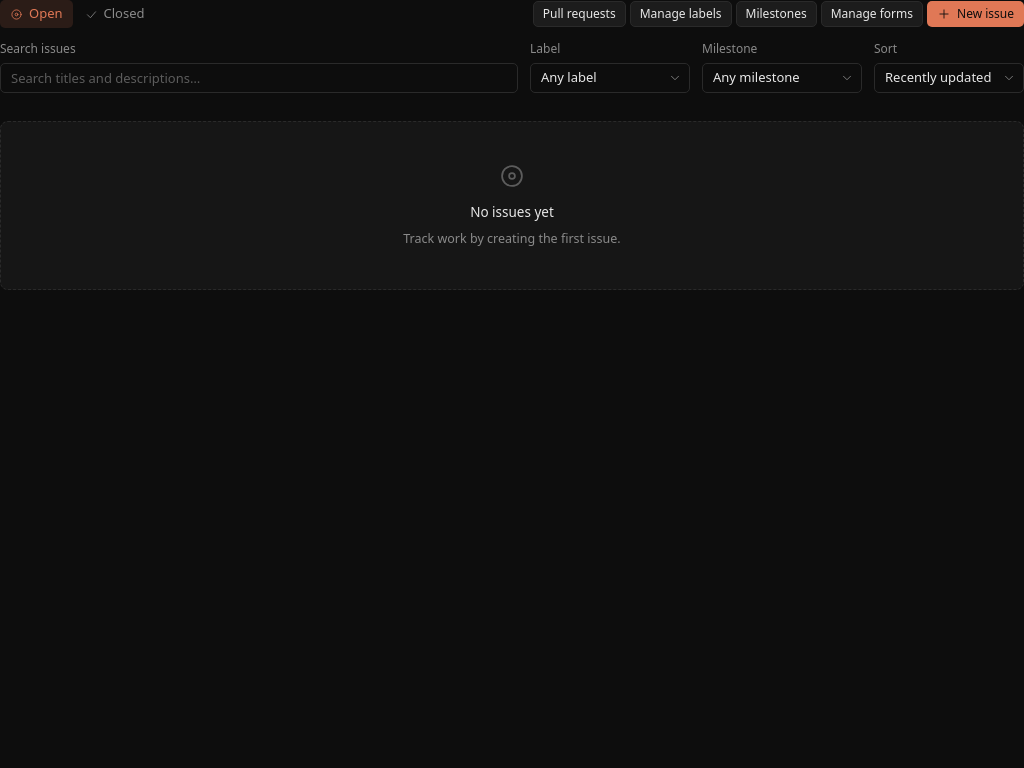
form-driven issue creation › blocks submission CLIENT-SIDE while required fields are empty
This screenshot has width=1024, height=768.
Click the button "New issue" at (976, 14), box [927,1,1023,27]
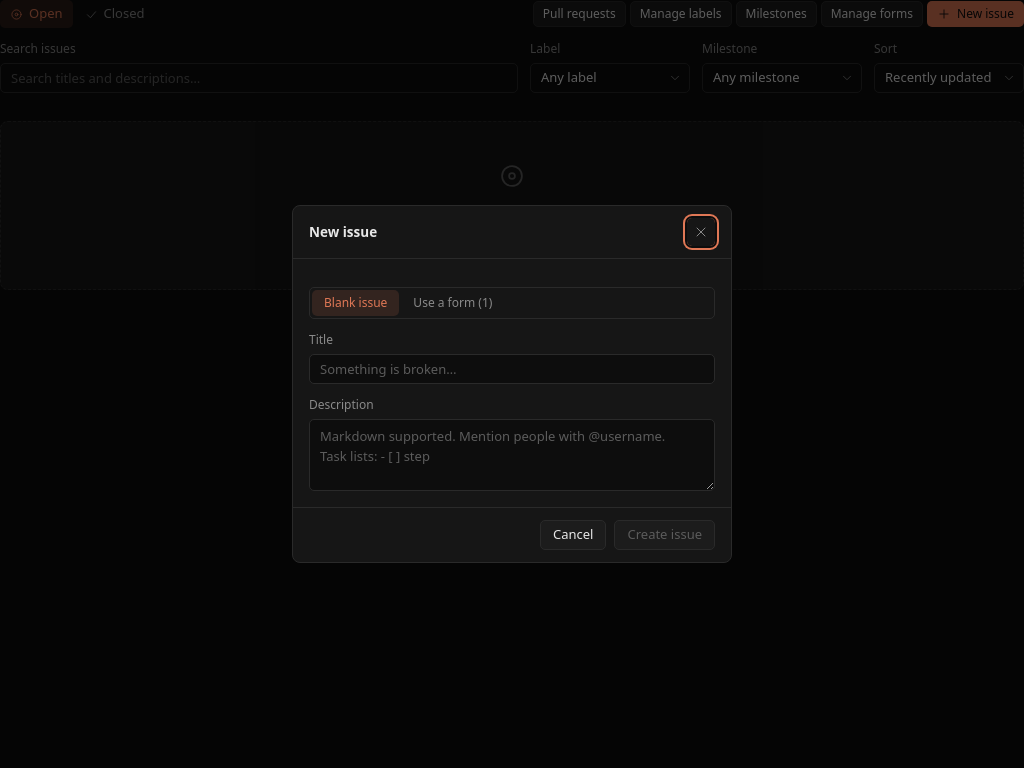
Click the radio button labelled "Use a form (1)" at (453, 303), box [401,290,504,316]
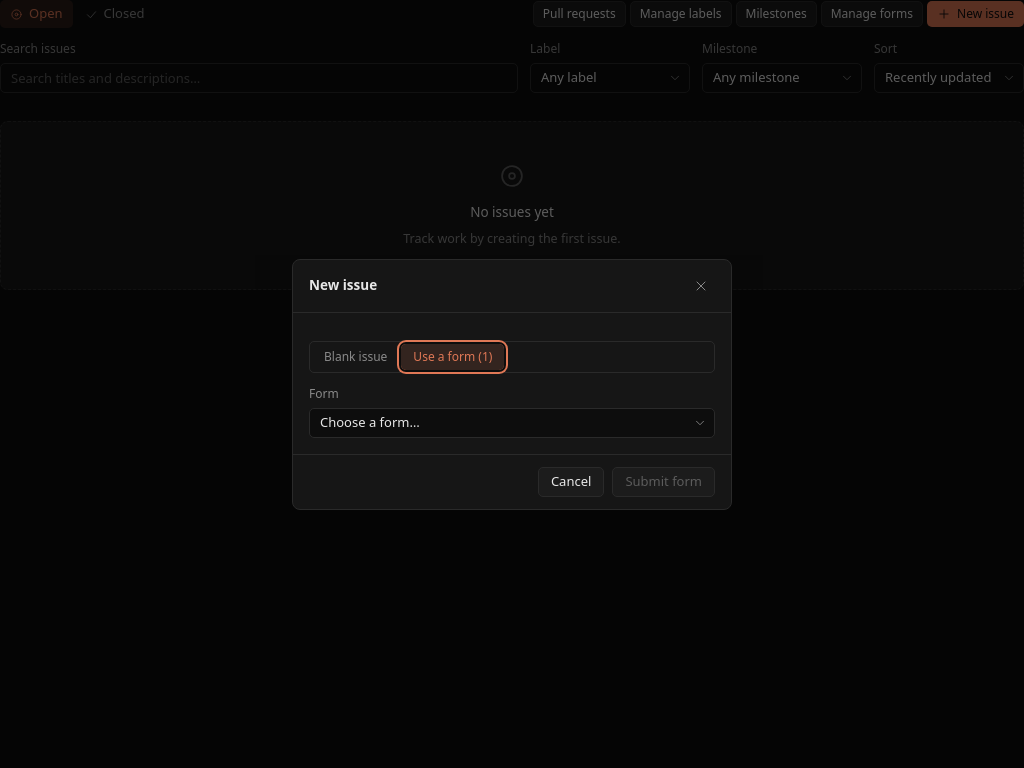
Select "Bug report" in the dropdown labelled "Form" at (512, 422), box [309,408,715,438]
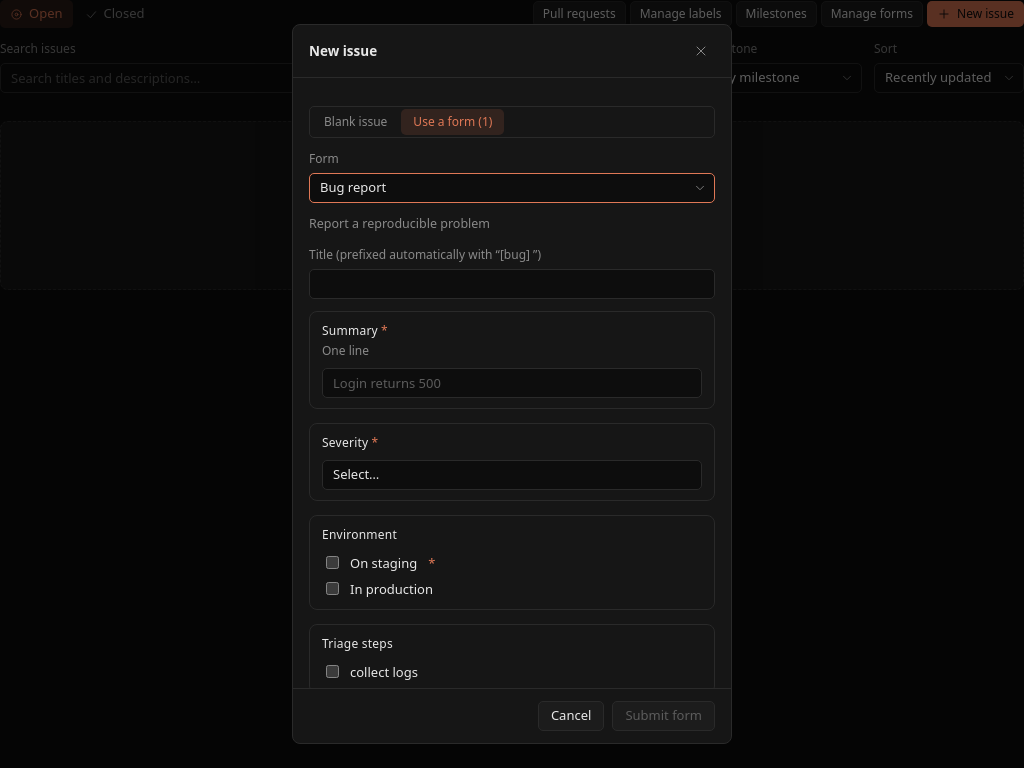
Expected: the button "Submit form" is shown, [612,701,715,731]
Type "Crash on save" into the field named "Summary" at (512, 383), box [322,368,702,398]
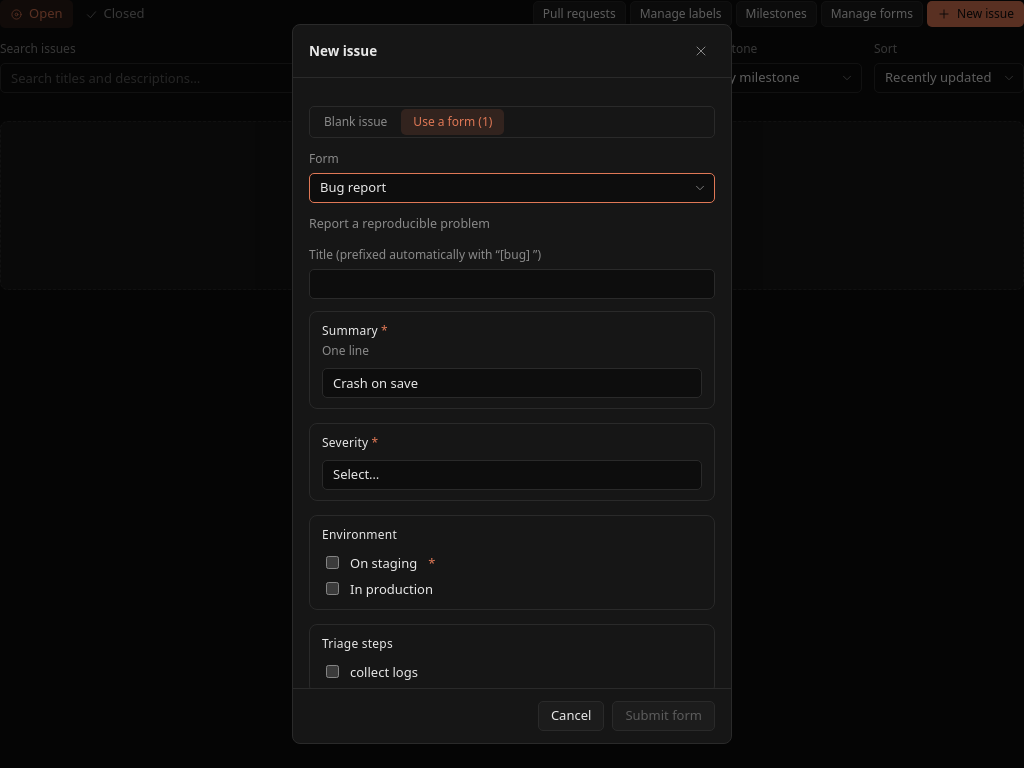
Expected: the button "Submit form" is disabled, [612,701,715,731]
Select "low" in the dropdown named "Severity" at (512, 475), box [322,460,702,490]
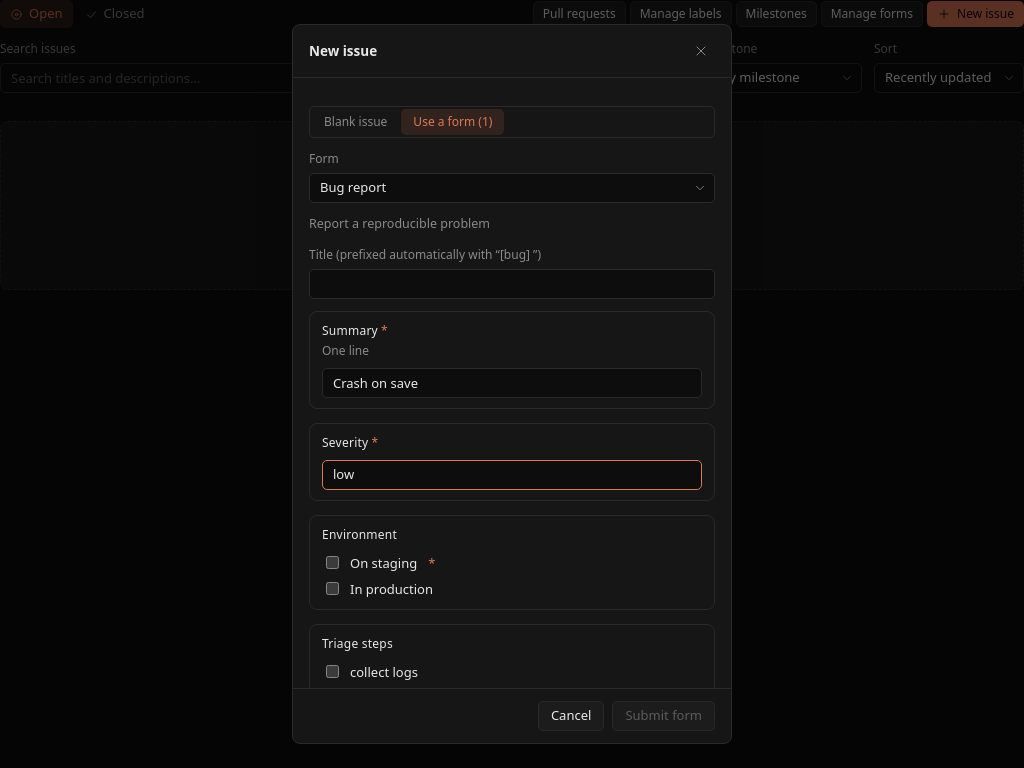
Expected: the button "Submit form" is disabled, [612,701,715,731]
Click the checkbox labelled "On staging *" at (332, 562), box [326,556,339,569]
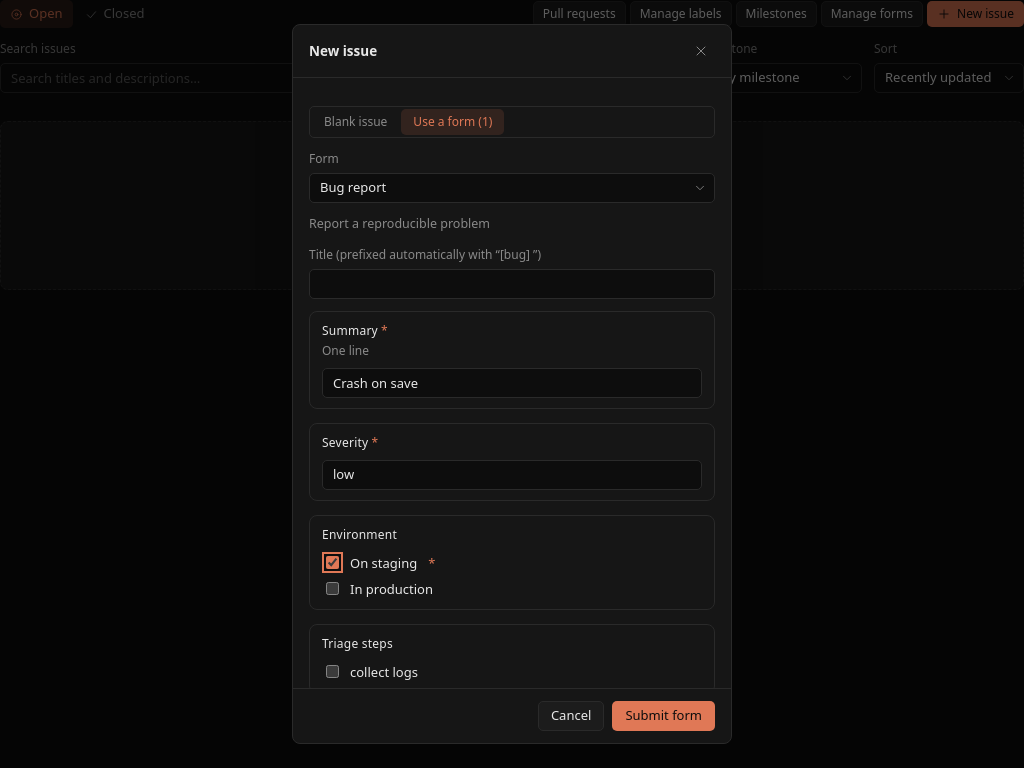
Expected: the button "Submit form" is enabled, [612,701,715,731]
